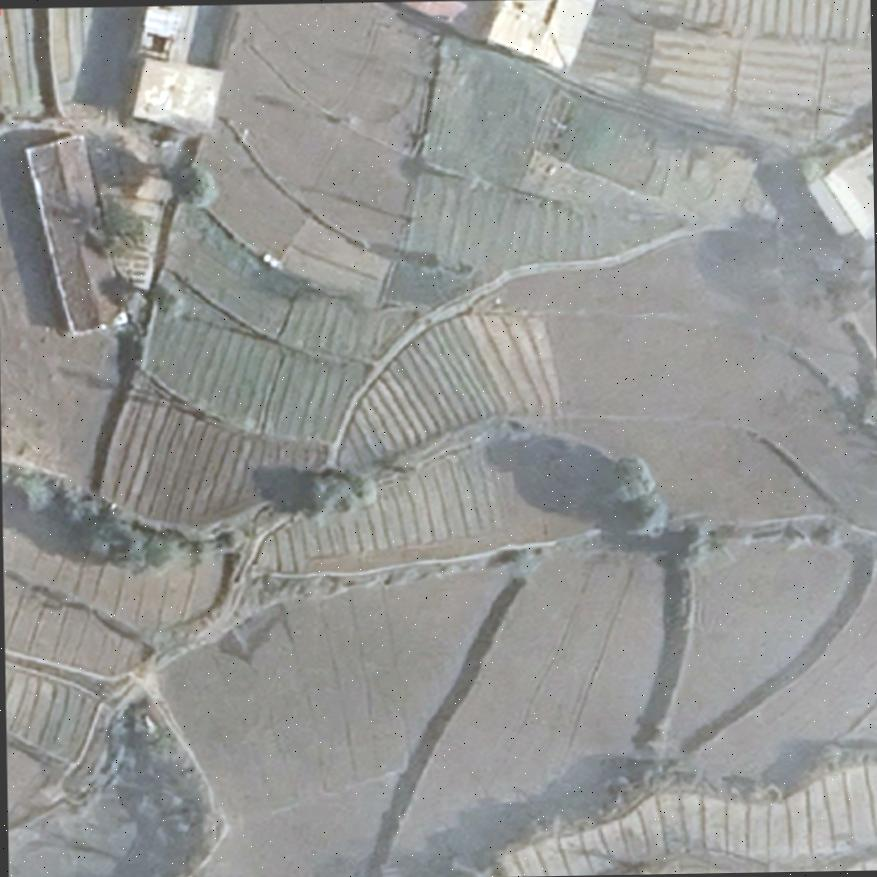Solarpanel: (138, 5, 184, 40)
